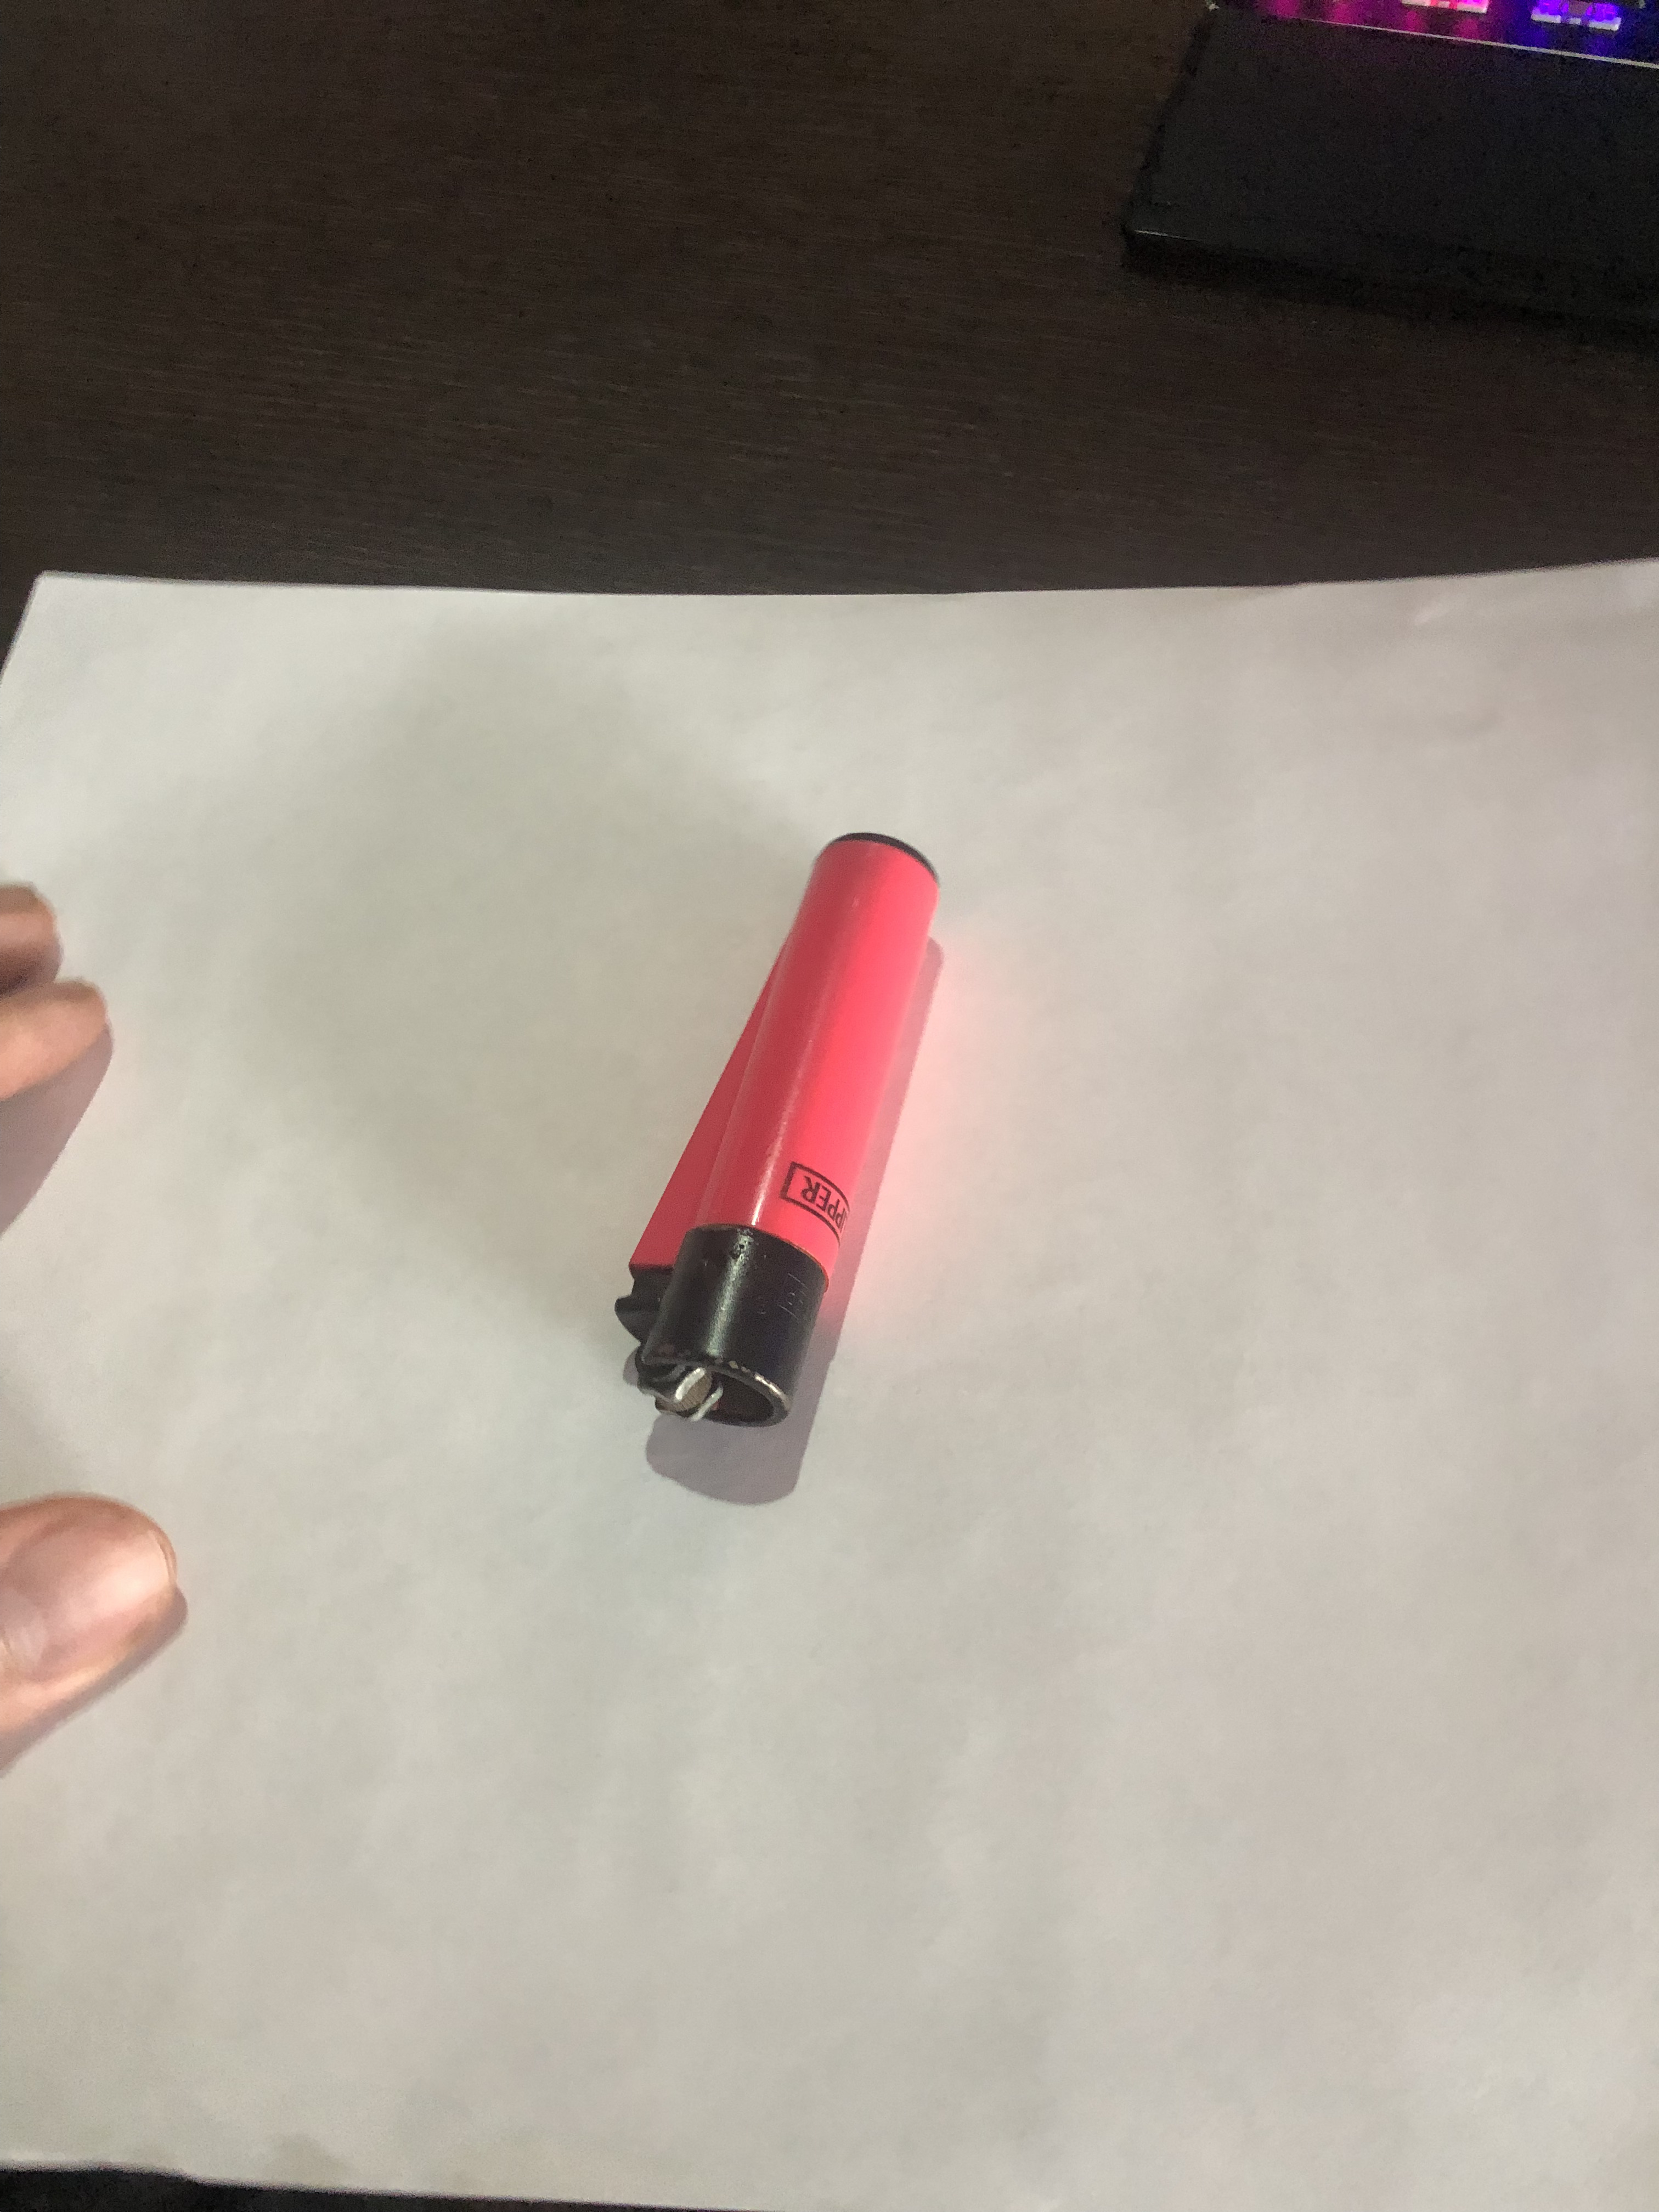Mechero: (606, 820, 965, 1428)
